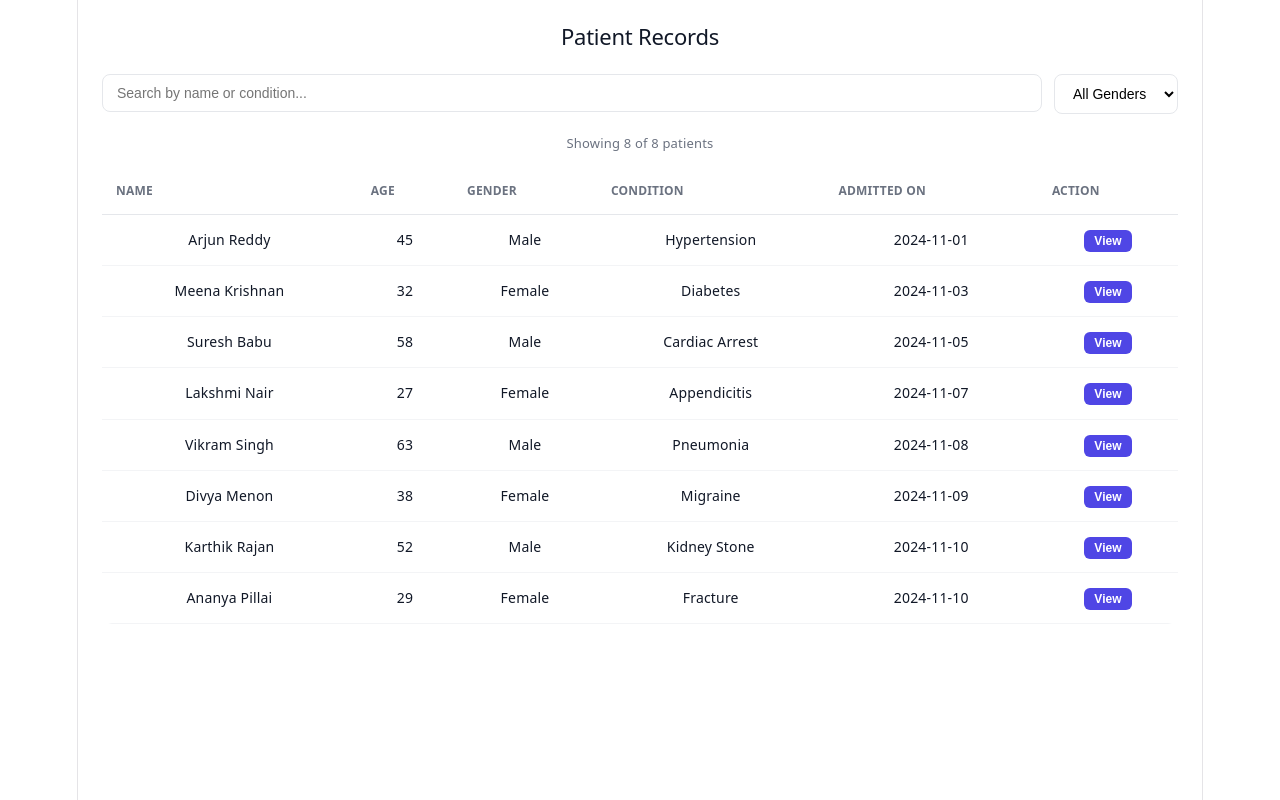
Test: Patients page › shows patient detail when View is clicked
Check: the text "Arjun Reddy" is shown, box [102,215,357,266]
Click the button "View" in the row of "Arjun Reddy": (1108, 241) [1084,230,1132,252]
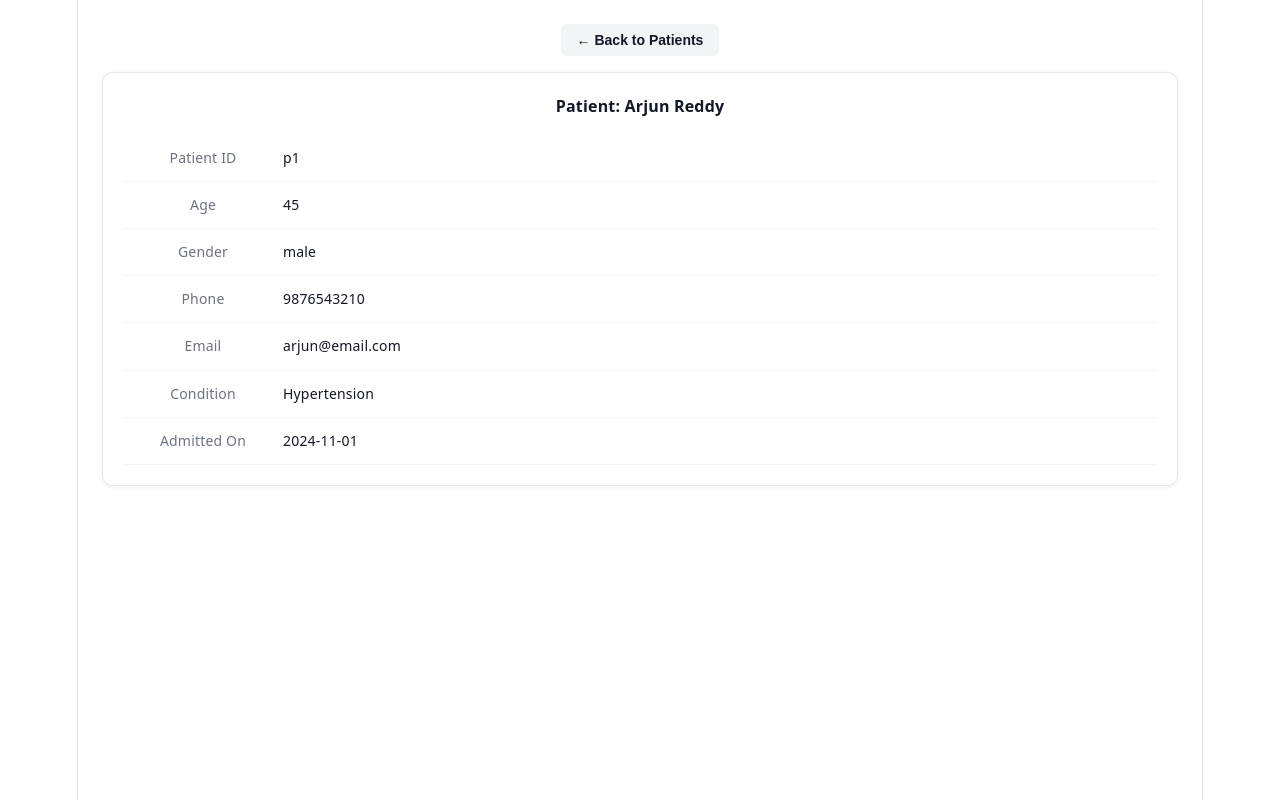
Check: the text "9876543210" is shown, box [283,286,365,312]
